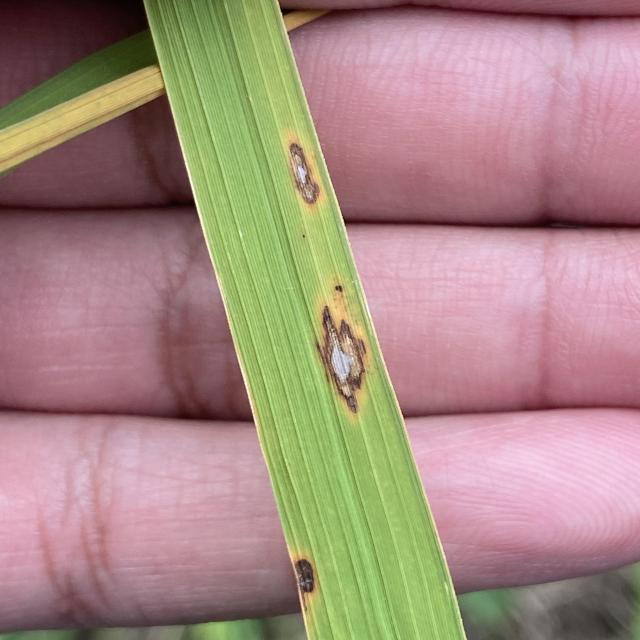Dao on: (318, 305, 366, 413), (290, 143, 320, 205), (333, 322, 355, 358)
